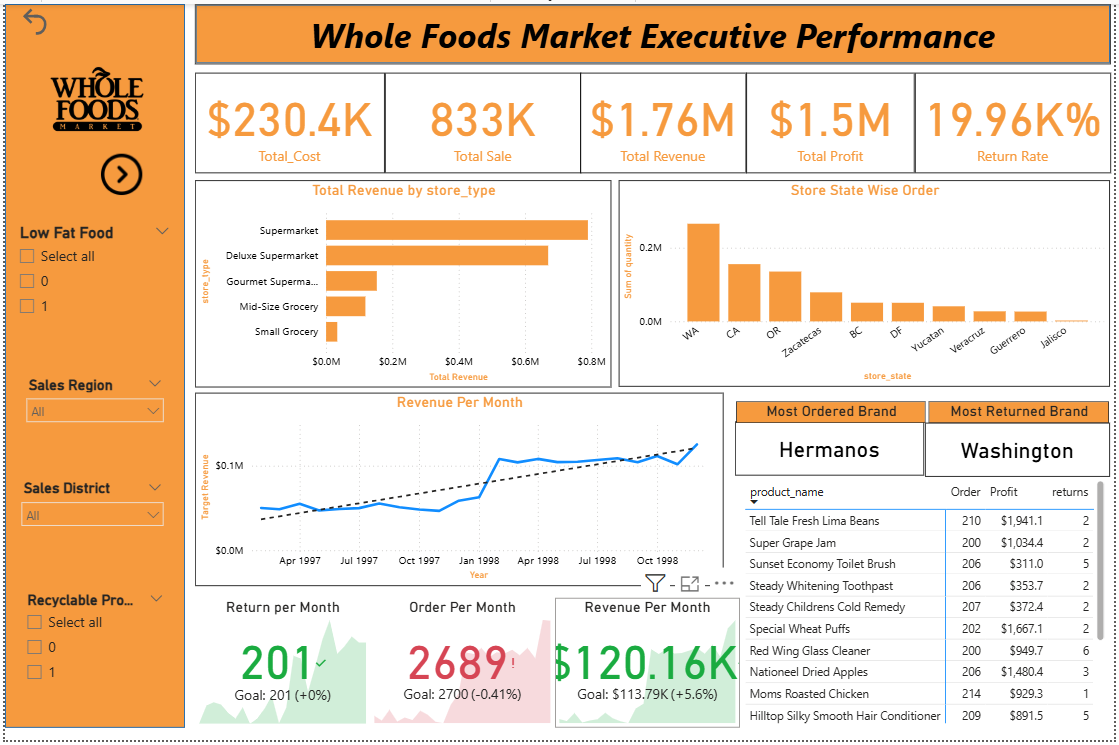

The dashboard page shown, as its layout file describes it:
{"tool":"powerbi","page":{"name":"Page 1","canvas":[1280,850],"ordinal":0},"visuals":[{"type":"group","id":"g1","title":"Group 1","box":[0,0,207.9,835.9],"z":0,"group":"g4"},{"type":"card","fields":{"Values":["Measure Table.Total_Cost"]},"box":[218.8,79.7,219,115.9],"z":0,"group":"g2"},{"type":"barChart","fields":{"Y":["Measure Table.Total Revenue"],"Category":["WholeFoods_Stores.store_type"]},"box":[218.8,202.9,481.2,239.1],"z":0},{"type":"card","title":"Most Popular Brand","fields":{"Values":["Min(WholeFoods_Products.product_brand)"]},"box":[843.1,482.1,218.6,62.2],"z":0,"group":"g3"},{"type":"card","fields":{"Values":["Measure Table.Total Sale"]},"box":[437.8,79.7,226.2,115.9],"z":1000,"group":"g2"},{"type":"columnChart","title":"Store State Wise Order","fields":{"Category":["WholeFoods_Stores.store_state"],"Y":["Sum(WholeFood_transactions_1997-1998.quantity)"]},"box":[708.8,203.6,567.3,238.2],"z":1000},{"type":"slicer","fields":{"Values":["WholeFoods_Regions.sales_region"]},"box":[14.4,424.4,179,78],"z":1000,"group":"g4"},{"type":"card","fields":{"Values":["Min(WholeFoods_Products.product_brand)"]},"box":[1062.5,483.6,213.7,62.1],"z":1000,"group":"g3"},{"type":"shape","box":[0,0,207.9,835.9],"z":1501,"group":"g1"},{"type":"card","fields":{"Values":["Measure Table.Total Revenue"]},"box":[664,79.7,191.8,115.9],"z":2000,"group":"g2"},{"type":"slicer","fields":{"Values":["WholeFoods_Products.low_fat"]},"box":[4.3,248.3,197.8,147.2],"z":2000,"group":"g4"},{"type":"lineChart","title":"Revenue Per Month","fields":{"Y":["Measure Table.Target Revenue"],"Category":["WholeFoods_Calendar.Start of Month.Variation.Date Hierarchy.Year","WholeFoods_Calendar.Start of Month.Variation.Date Hierarchy.Quarter","WholeFoods_Calendar.Start of Month.Variation.Date Hierarchy.Month","WholeFoods_Calendar.Start of Month.Variation.Date Hierarchy.Day"]},"box":[218.8,449.3,610.1,223.2],"z":2000},{"type":"shape","title":"Most Ordered Brand","box":[843.9,459.1,218.6,24.6],"z":2000,"group":"g3"},{"type":"image","box":[23.1,46.2,166,132.8],"z":2001,"group":"g1"},{"type":"group","id":"g2","title":"Group 2","box":[218.8,79.7,1058,115.9],"z":3000},{"type":"card","fields":{"Values":["Measure Table.Total Profit"]},"box":[855.9,79.7,194.7,115.9],"z":3000,"group":"g2"},{"type":"shape","title":"Most Returned Brand","box":[1066.9,459.1,207.9,24.5],"z":3000,"group":"g3"},{"type":"slicer","fields":{"Values":["WholeFoods_Regions.sales_district"]},"box":[8.7,544.2,184.8,69.3],"z":3000,"group":"g4"},{"type":"card","fields":{"Values":["Measure Table.Return Rate"]},"box":[1050.7,79.7,226.2,115.9],"z":4000,"group":"g2"},{"type":"slicer","fields":{"Values":["WholeFoods_Products.recyclable"]},"box":[13,672.7,181.9,129.9],"z":4000,"group":"g4"},{"type":"kpi","title":"Return per Month","fields":{"Indicator":["Measure Table.Total returns"],"Goal":["Measure Table.privious month return"],"TrendLine":["WholeFoods_Calendar.Start of Month"]},"box":[218.8,685.5,202.9,150.7],"z":4000},{"type":"actionButton","box":[14.4,0,50.5,40.4],"z":5000,"group":"g4"},{"type":"kpi","title":"Order Per Month","fields":{"Indicator":["Measure Table.Total OrderQuantity"],"TrendLine":["WholeFoods_Calendar.Start of Month"],"Goal":["Measure Table.privious month order"]},"box":[421.5,685.7,213.7,150.1],"z":5000},{"type":"kpi","title":"Revenue Per Month","fields":{"Indicator":["Measure Table.Total Revenue"],"TrendLine":["WholeFoods_Calendar.Start of Month"],"Goal":["Measure Table.Previous Month Revenue"]},"box":[635.2,685.7,213.7,150.1],"z":6000},{"type":"pivotTable","fields":{"Rows":["WholeFoods_Products.product_name"],"Values":["Measure Table.Total OrderQuantity","Measure Table.Total Profit","Measure Table.Total returns"]},"box":[850.3,545.7,424.4,290.2],"z":7000},{"type":"group","id":"g3","title":"Group 3","box":[843.1,459.1,433.1,86.6],"z":8000},{"type":"group","id":"g4","title":"Group 4","box":[0,0,207.9,835.9],"z":9000},{"type":"actionButton","box":[106.6,168.9,86.9,55.7],"z":10000},{"type":"shape","box":[218.8,0,1058,69.6],"z":11000}]}

Visuals, with their boxes in screenshot pixels (x1, y1, x2, y2), scaled from the page's 1280x850 canvas onto the 1119x745 screenshot:
"Group 1" group: 0 0 182 733
card - Measure Table.Total_Cost: 191 70 383 171
barChart - Measure Table.Total Revenue x WholeFoods_Stores.store_type: 191 178 612 387
"Most Popular Brand" card: 737 423 928 477
card - Measure Table.Total Sale: 383 70 580 171
"Store State Wise Order" columnChart: 620 178 1116 387
slicer - WholeFoods_Regions.sales_region: 13 372 169 440
card - Min(WholeFoods_Products.product_brand): 929 424 1116 478
shape: 0 0 182 733
card - Measure Table.Total Revenue: 580 70 748 171
slicer - WholeFoods_Products.low_fat: 4 218 177 347
"Revenue Per Month" lineChart: 191 394 725 589
"Most Ordered Brand" shape: 738 402 929 424
image: 20 40 165 157
"Group 2" group: 191 70 1116 171
card - Measure Table.Total Profit: 748 70 918 171
"Most Returned Brand" shape: 933 402 1114 424
slicer - WholeFoods_Regions.sales_district: 8 477 169 538
card - Measure Table.Return Rate: 919 70 1116 171
slicer - WholeFoods_Products.recyclable: 11 590 170 703
"Return per Month" kpi: 191 601 369 733
actionButton: 13 0 57 35
"Order Per Month" kpi: 368 601 555 733
"Revenue Per Month" kpi: 555 601 742 733
pivotTable - WholeFoods_Products.product_name x Measure Table.Total OrderQuantity: 743 478 1114 733
"Group 3" group: 737 402 1116 478
"Group 4" group: 0 0 182 733
actionButton: 93 148 169 197
shape: 191 0 1116 61
